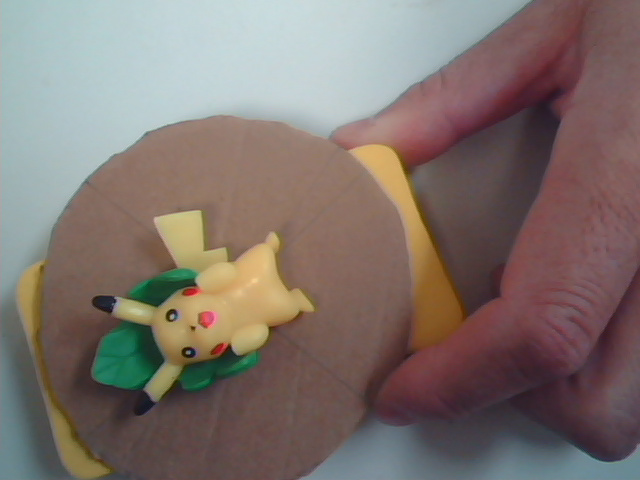pikachu: (80, 200, 333, 453)
